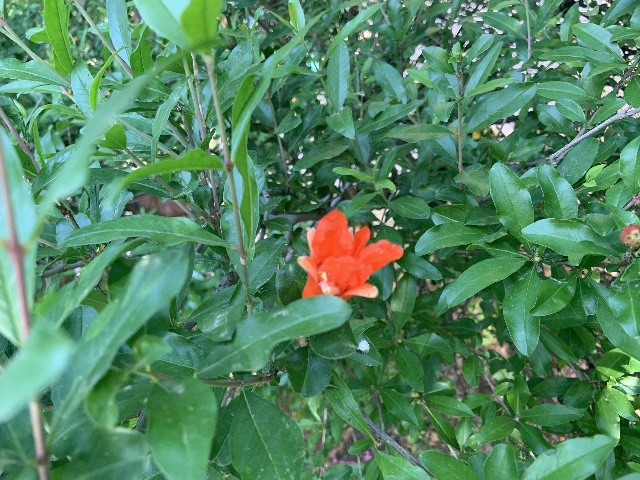flower: (296, 209, 403, 302)
